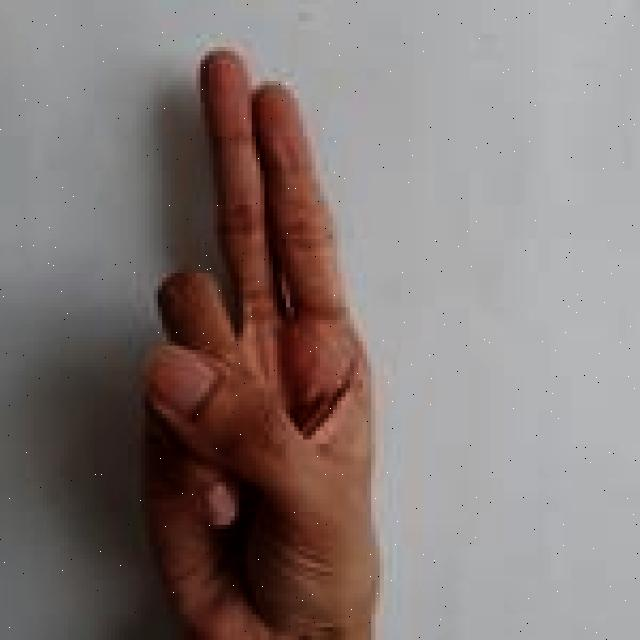U: (136, 44, 398, 640)
